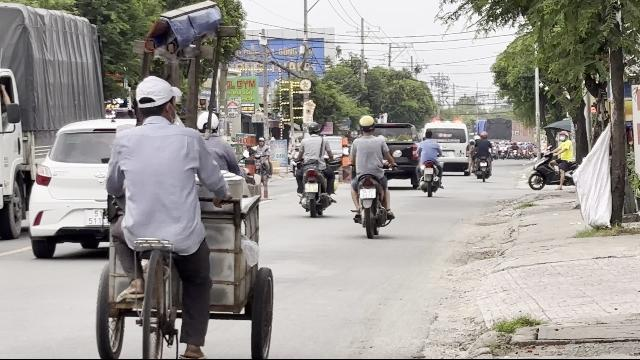helmet: (358, 114, 374, 134)
licenseplate: (360, 189, 376, 199)
motorcyclist: (346, 114, 396, 236)
